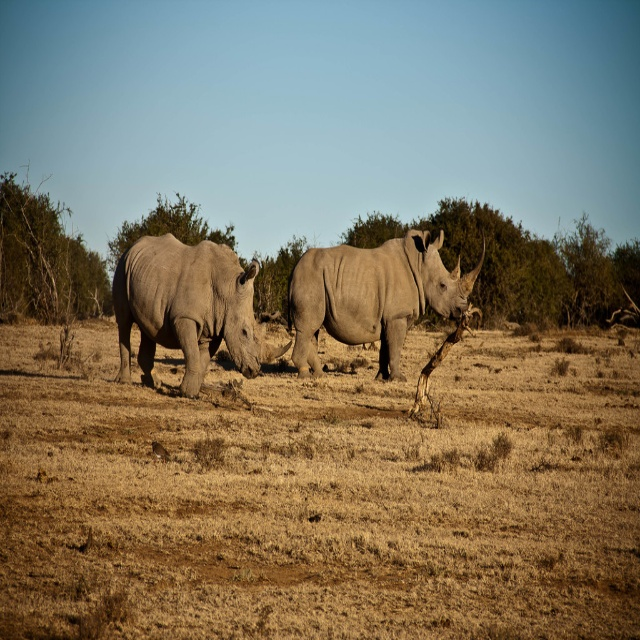Rhinoceros: (288, 222, 488, 382), (108, 229, 294, 398)
